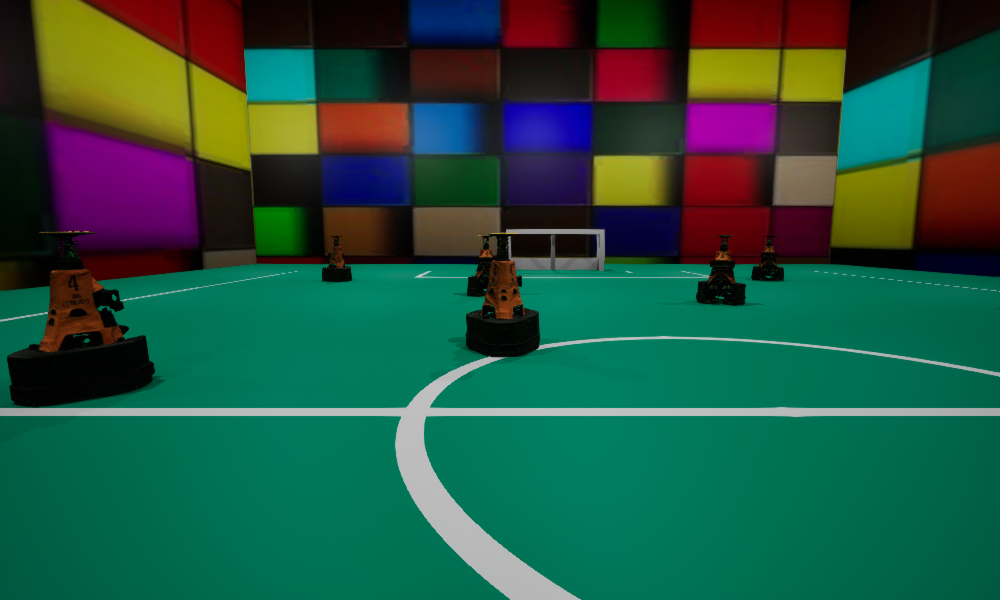o: (7, 231, 154, 406), (465, 233, 539, 356), (696, 235, 745, 304), (467, 235, 495, 296), (751, 236, 783, 280), (322, 236, 351, 281)
